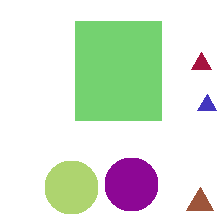circle: (45, 161, 97, 213), (105, 158, 157, 210)
rectangle: (75, 21, 161, 120)
triangle: (186, 187, 213, 210), (191, 52, 211, 69), (197, 94, 216, 110)
